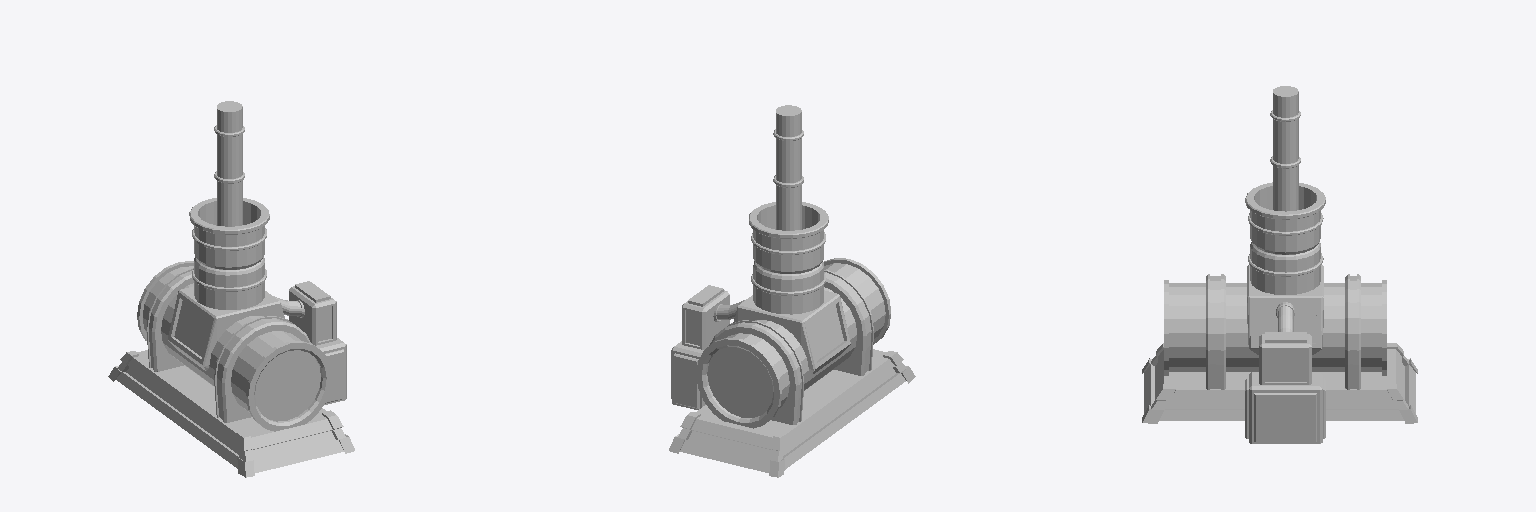
The model's file is red_engune.obj.
The picture shows the model from 3 angles: view 1: azimuth 30°, elevation 25°; view 2: azimuth 150°, elevation 25°; view 3: azimuth 270°, elevation 25°; orthographic projection.
Visible parts, largest first — view 1: pCylinder2; view 2: pCylinder2; view 3: pCylinder2.
Boxes of the visible parts, box(x1,y1,x2,y2) form: pCylinder2: box(108, 101, 354, 477); pCylinder2: box(669, 105, 915, 477); pCylinder2: box(1142, 86, 1417, 443).
Size of the model in its own units: 4.09 by 7.54 by 6.17.